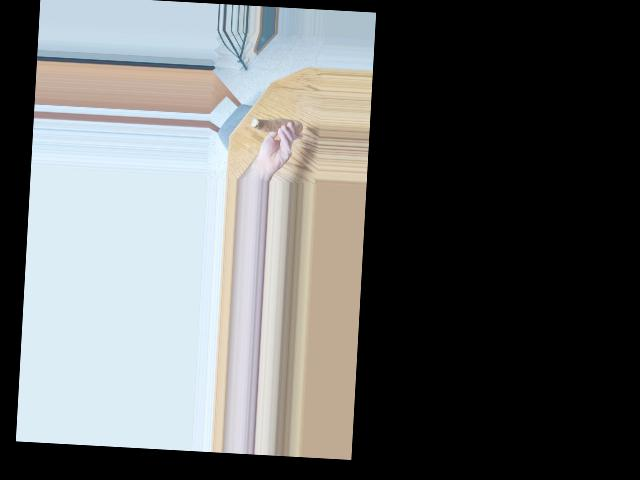sweet_potato: (254, 112, 300, 137)
